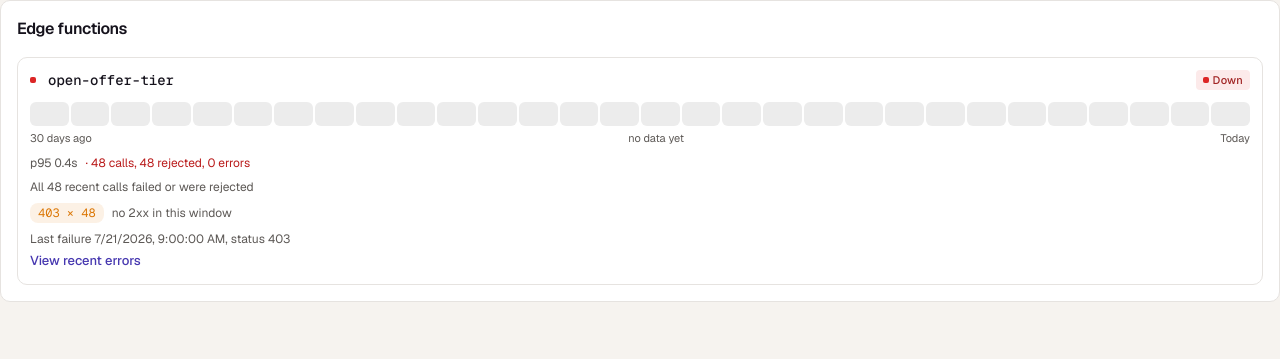
Test: EdgeFunctionsPanel › renders the analytics failure message after the drill-down opens
What coordinates should you click on to do the following:
click the button "View recent errors"
I would click on:
 (85, 260)
Its box is [30,250,141,270].
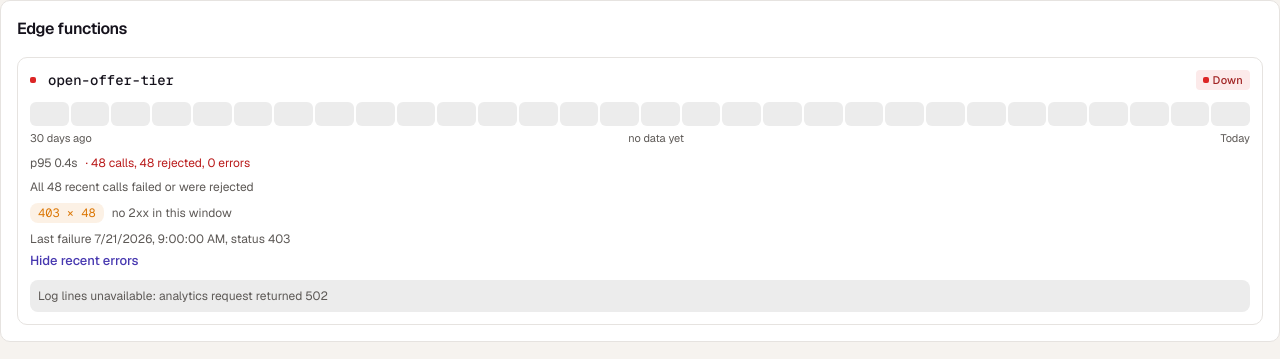
Now the text "Log lines unavailable: analytics request returned 502" is shown, box [38,288,328,304]
